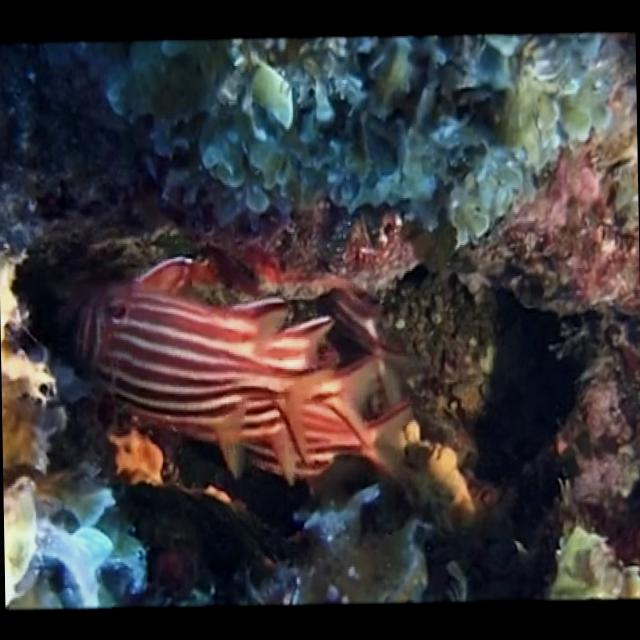Asker Baligi: (0, 32, 640, 612), (71, 249, 419, 495)
